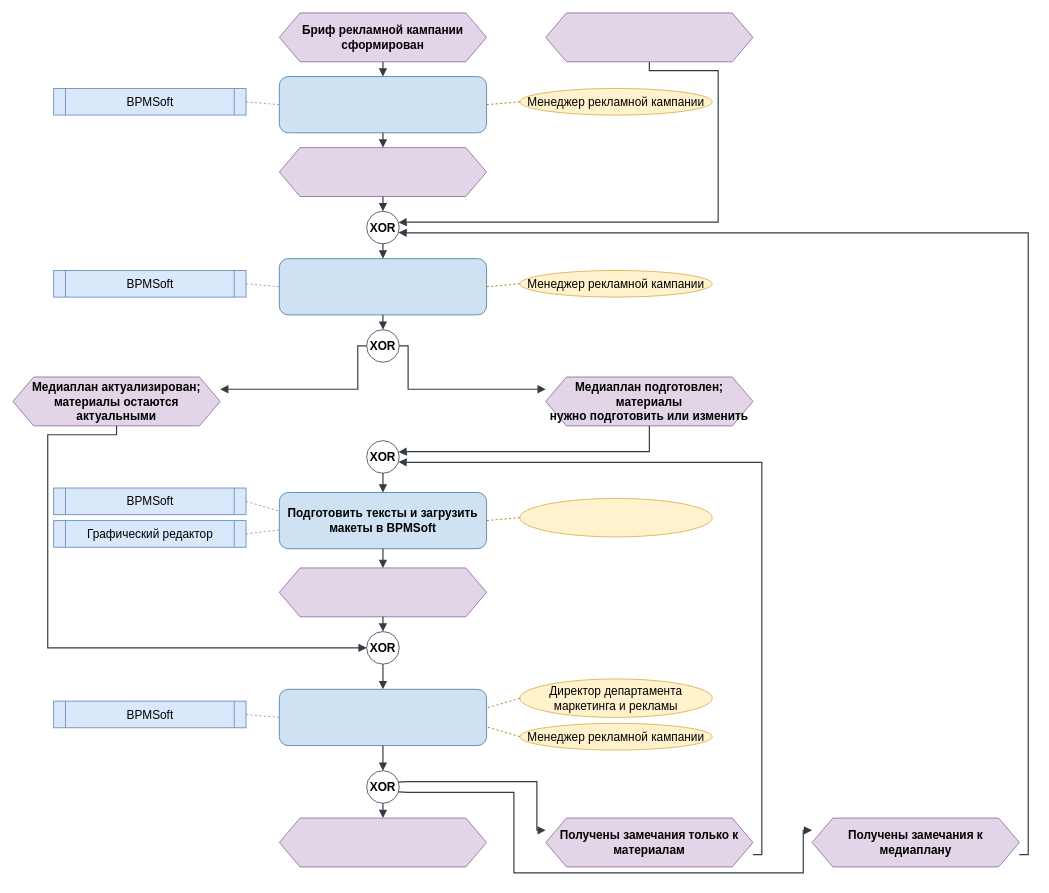
Some shapes in this 1049 by 893 pixel diagram are drawn without their labels. Each missing label, with the centre of its shape:
Концепция рекламной кампании подготовлена: [383,172]
Медиаплан и рекламные материалы согласованы: [383,842]
Разработать концепцию в карточке BPMSoft: [383,104]
Рекламные материалы подготовлены: [383,592]
Согласовать версии плана и материалов в BPMSoft: [383,717]
Специалист по разработке рекламных материалов: [615,517]
Сформировать электронный медиаплан: [383,286]
Требуется повторное согласование изменённых условий: [649,37]
